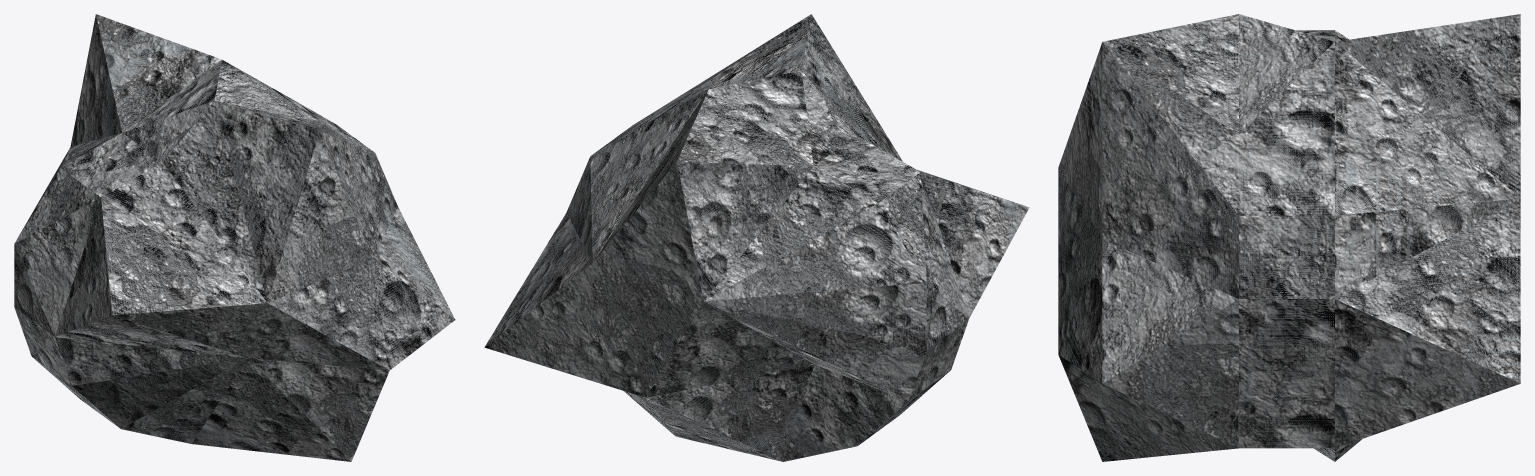
Rendered from asteroid3.fbx.
The picture shows the model from 3 angles, left to right: view 1: azimuth 30°, elevation 25°; view 2: azimuth 150°, elevation 25°; view 3: azimuth 270°, elevation 25°; orthographic projection. The views are drawn at different scales.
Visible parts, largest first — view 1: Model; view 2: Model; view 3: Model.
Boxes of the visible parts, box(x1,y1,x2,y2) form: Model: box(14, 14, 455, 461); Model: box(484, 14, 1029, 461); Model: box(1058, 14, 1520, 461).
Bounding box in the file's own units: 1.92 × 1.81 × 1.88.
